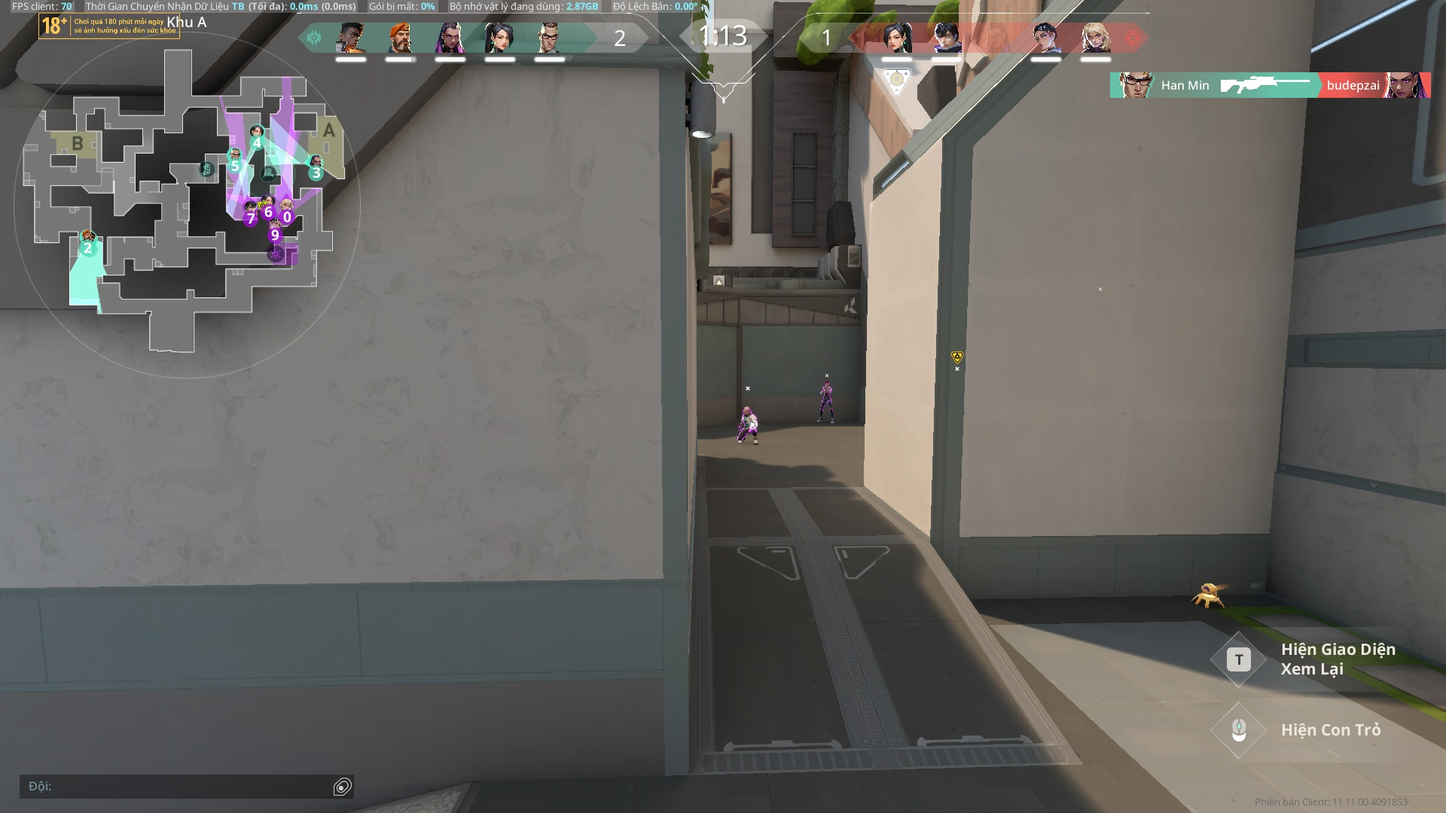body: (739, 414, 758, 430), (821, 385, 832, 399)
head: (742, 406, 750, 414), (824, 379, 829, 386)
